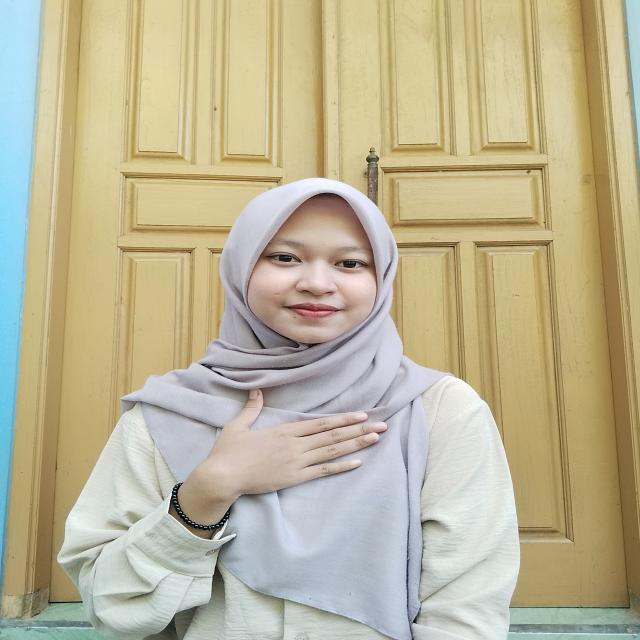tolong: (152, 385, 400, 527)
